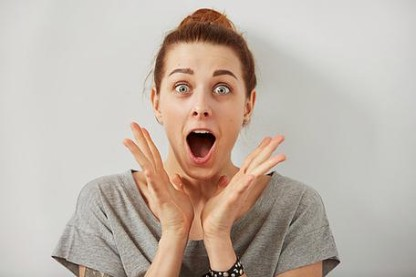张嘴: (180, 121, 221, 164)
